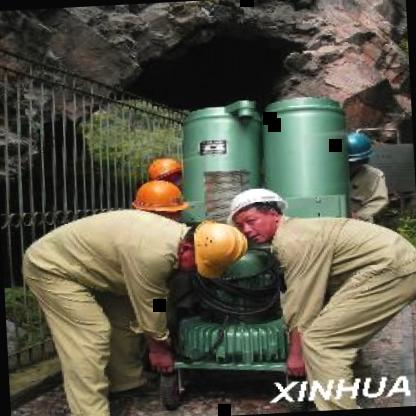helmet: (216, 178, 298, 247), (182, 215, 252, 283), (342, 129, 376, 172)
